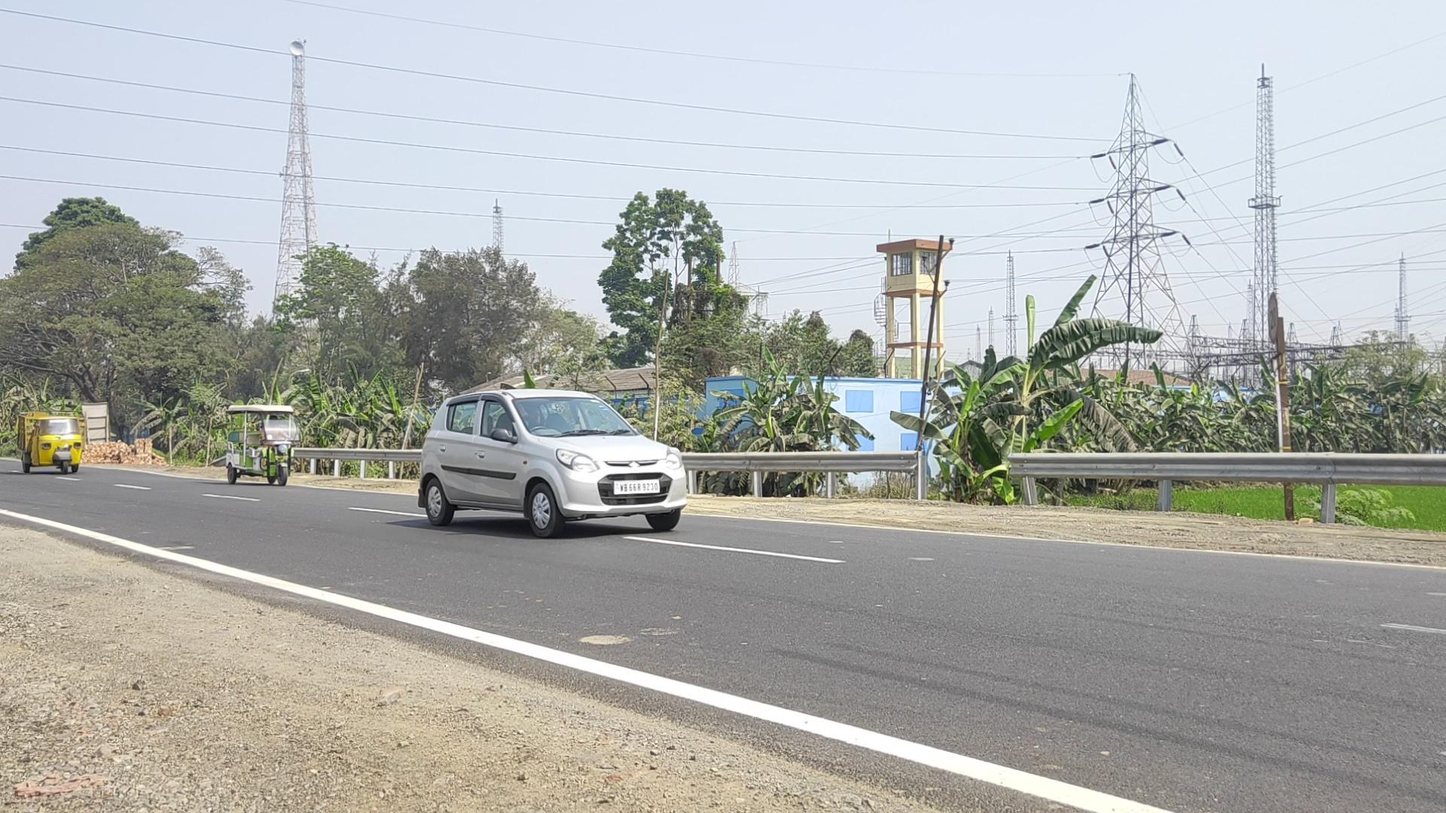Auto: (225, 404, 300, 486)
car: (418, 388, 688, 539)
van: (17, 411, 86, 475)
